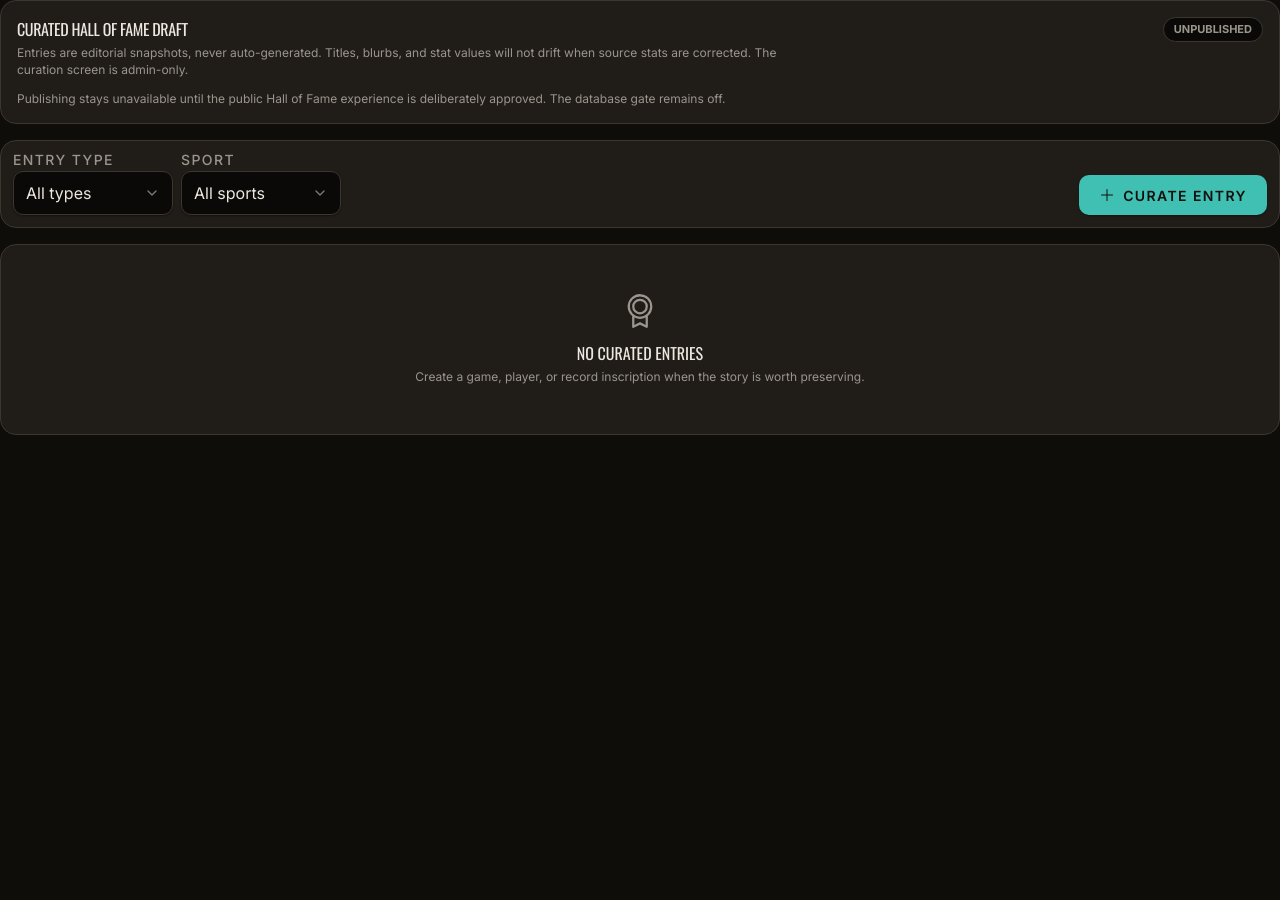
Test case: HallOfFameTab curation › creates a curated entry through the admin UI
Later steps or results of the test are not shown.
Click the button with test id "hof-add-entry" at (1173, 195), box [1079,175,1267,215]
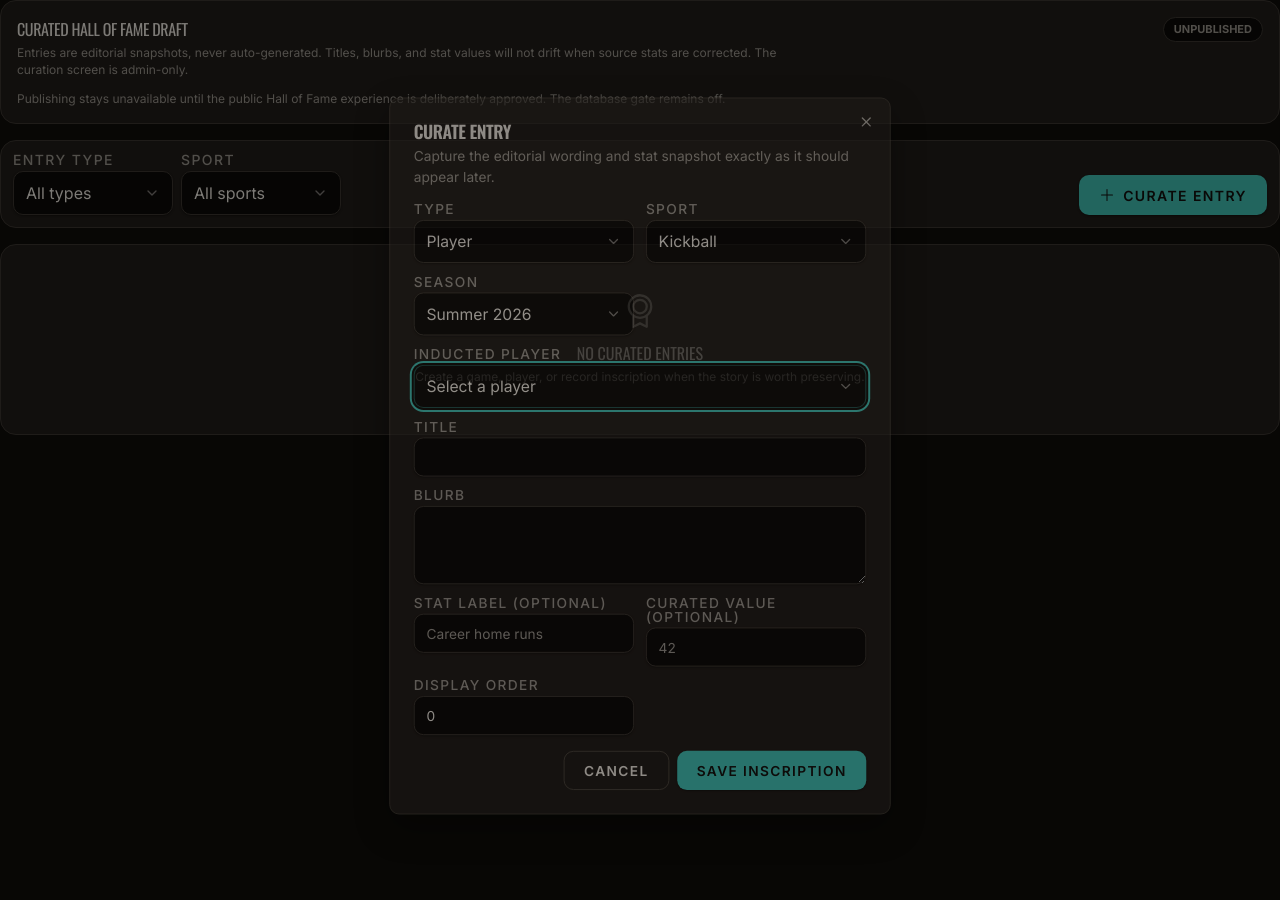
Press ArrowDown in the dropdown with test id "hof-profile", box [410,359,870,403]
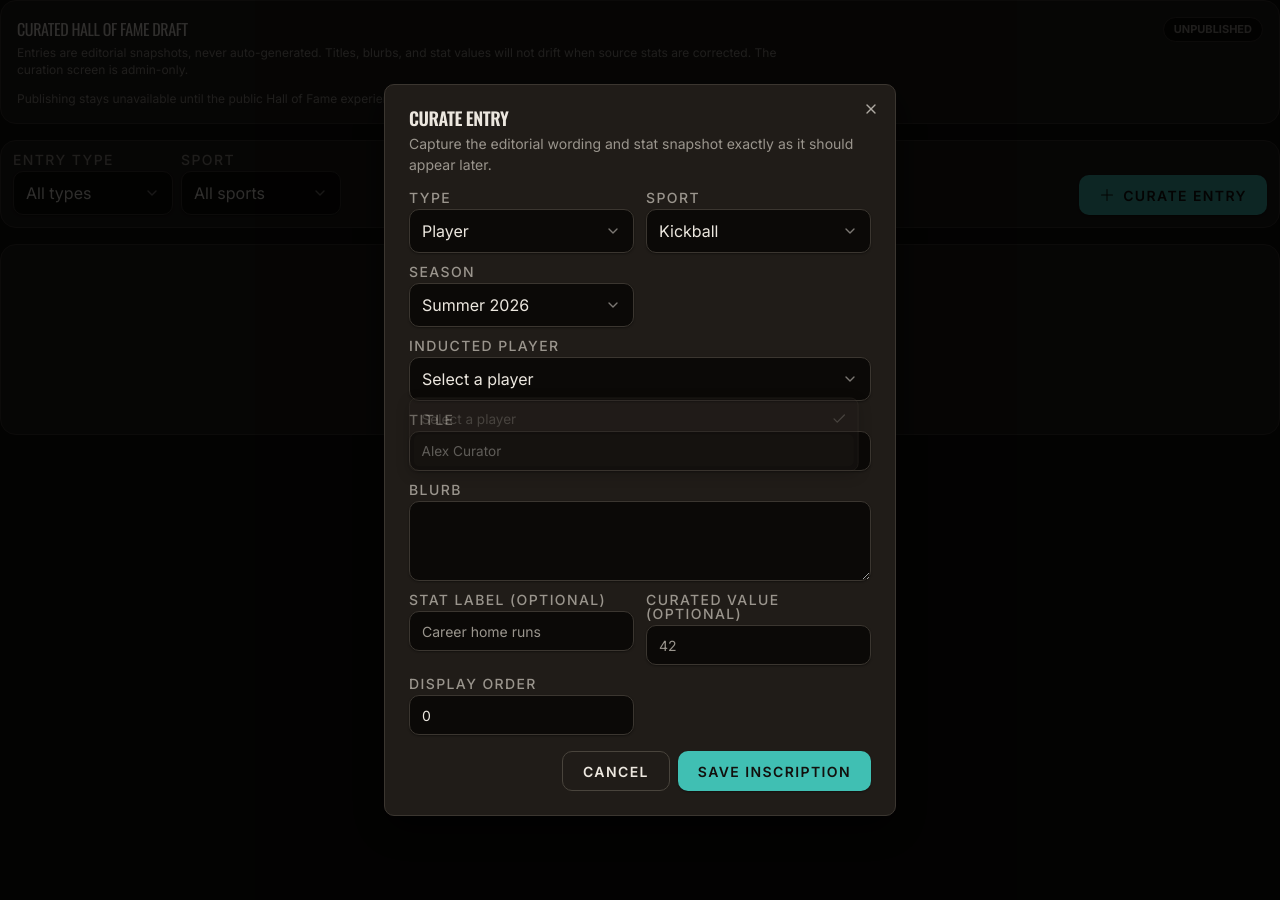
Result: the option "Alex Curator" is shown at [414,440,863,472]
